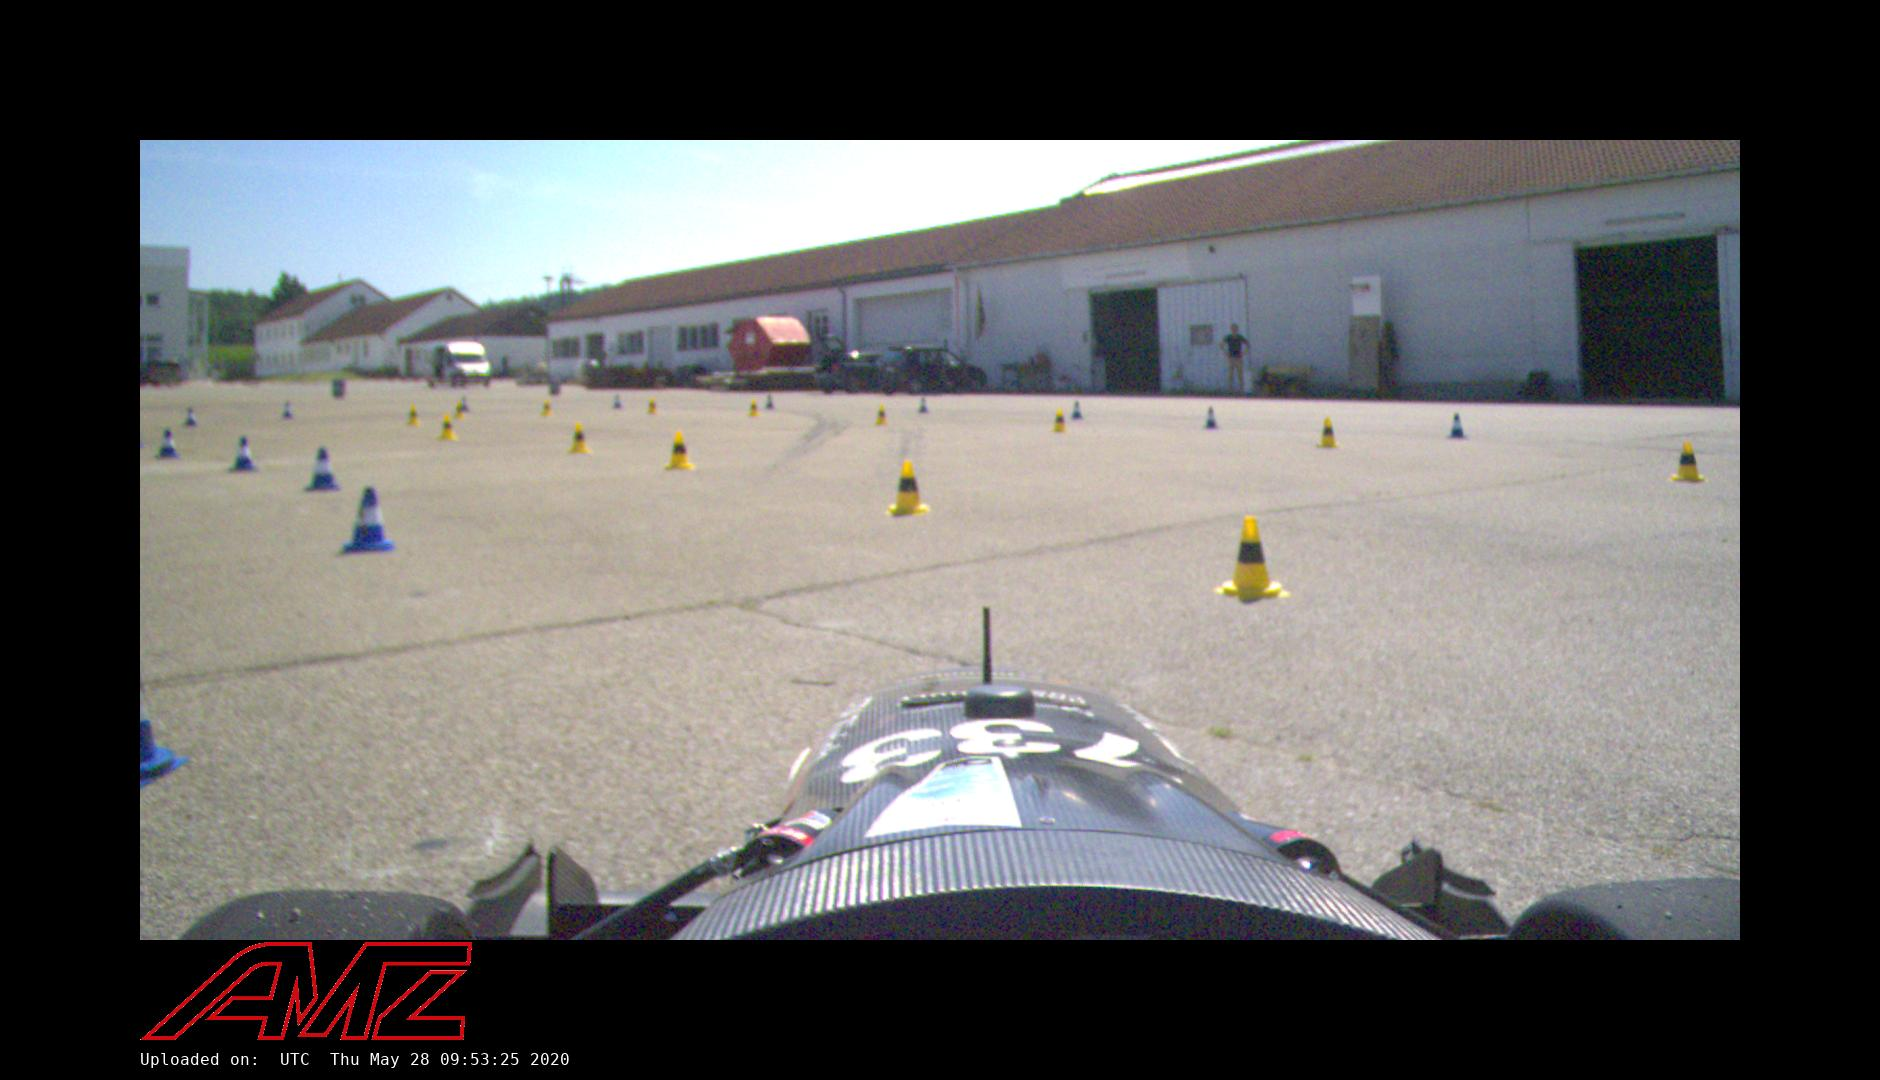blue_cone: (340, 488, 395, 556), (303, 444, 340, 492), (227, 435, 260, 473), (154, 426, 179, 461), (1446, 410, 1469, 437), (1201, 404, 1221, 429), (183, 404, 198, 428), (279, 398, 294, 419), (609, 393, 624, 411), (1070, 400, 1083, 420), (915, 395, 928, 413), (764, 394, 775, 410)
yellow_cone: (1212, 515, 1291, 605), (884, 459, 936, 518), (1670, 438, 1706, 483), (662, 429, 695, 470), (564, 420, 591, 452), (1317, 416, 1342, 447), (872, 400, 892, 428), (436, 413, 456, 441), (1050, 407, 1068, 433), (403, 403, 421, 426), (538, 391, 555, 415), (451, 400, 466, 420), (644, 394, 659, 413), (748, 398, 761, 416)
